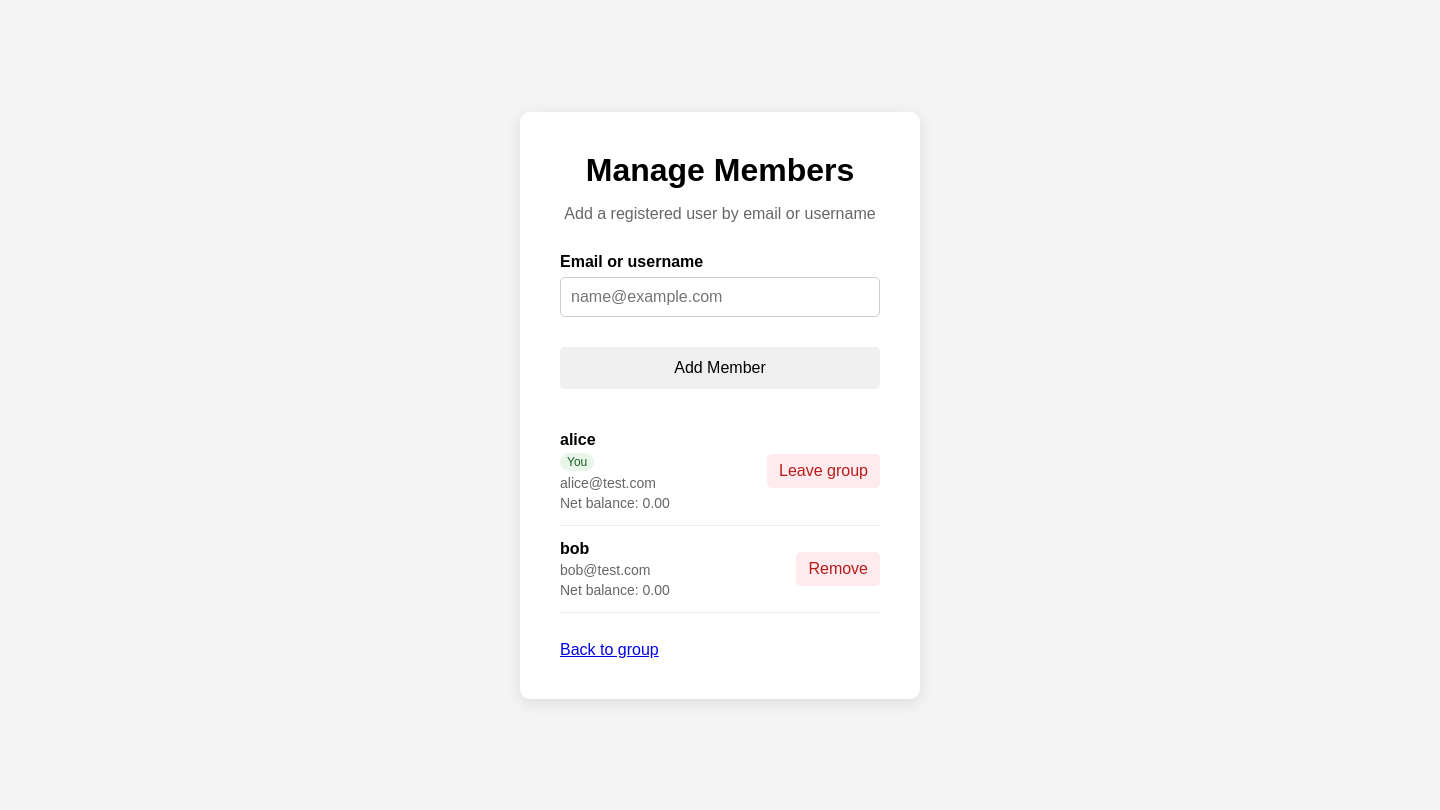
Test: AC5: displays a blocked-removal message
The width and height of the screenshot is (1440, 810).
Expected: the text "bob" is shown, [560,540,589,556]
Click the button "Remove" at coordinates (838, 568), box [796,552,880,586]
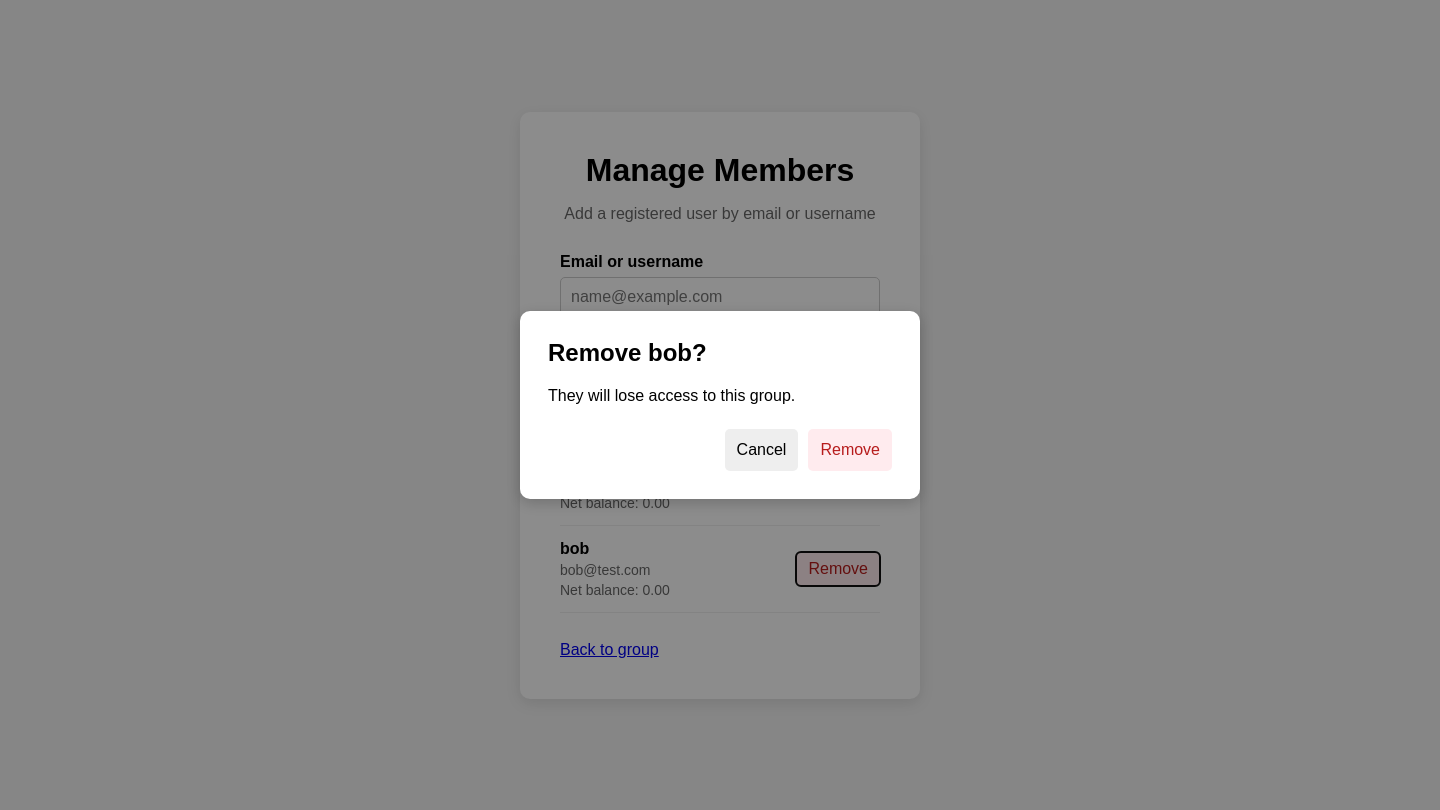
Click the button "Remove" at coordinates (850, 450), box [808,429,892,471]
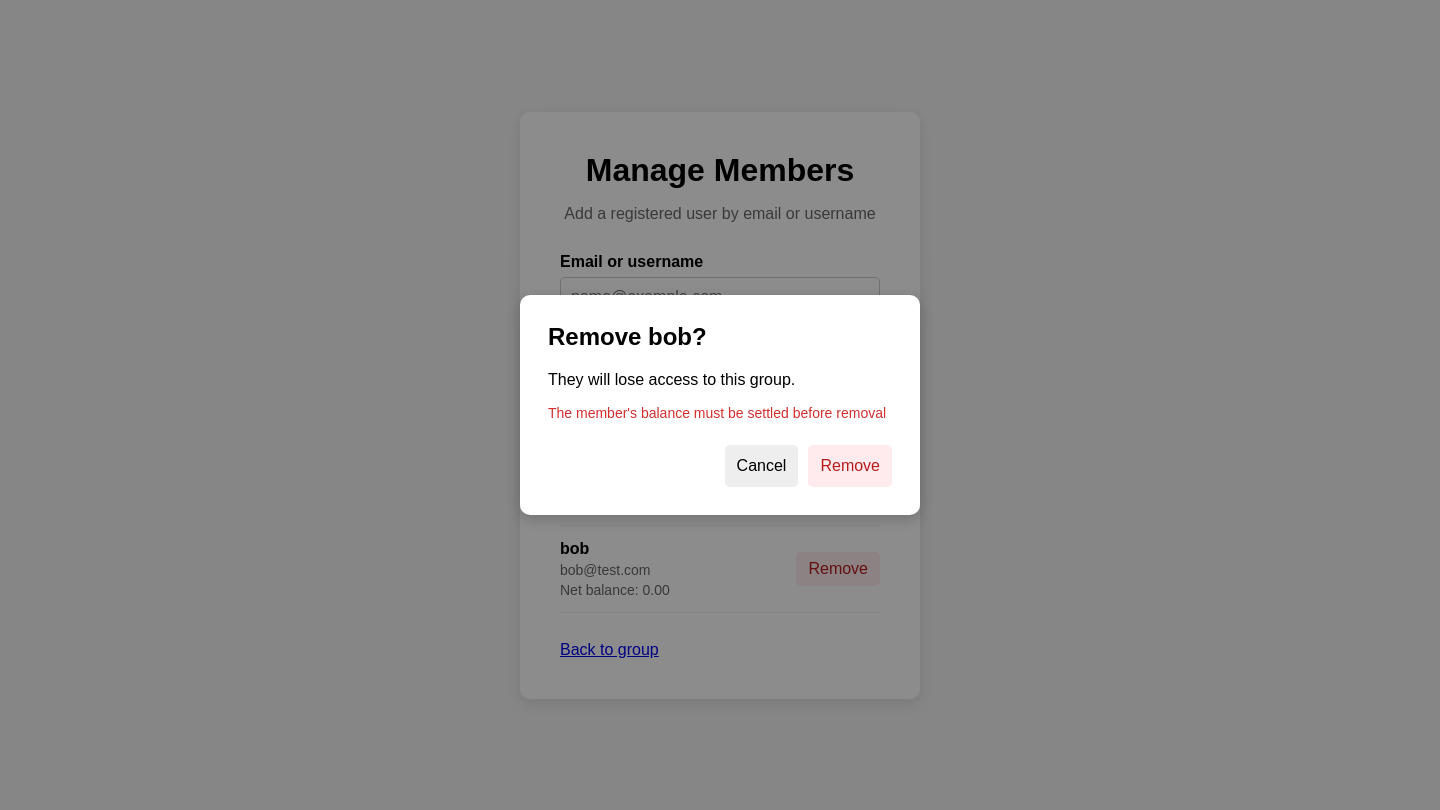
Now the message reads "The member's balance must be settled before removal", box [548,405,886,421]
